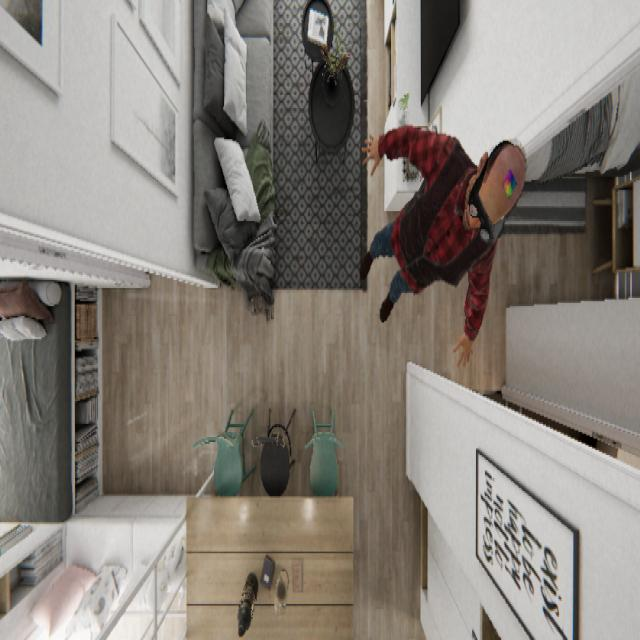Colored-Marker: (500, 165, 518, 200)
Human: (358, 123, 528, 368)
